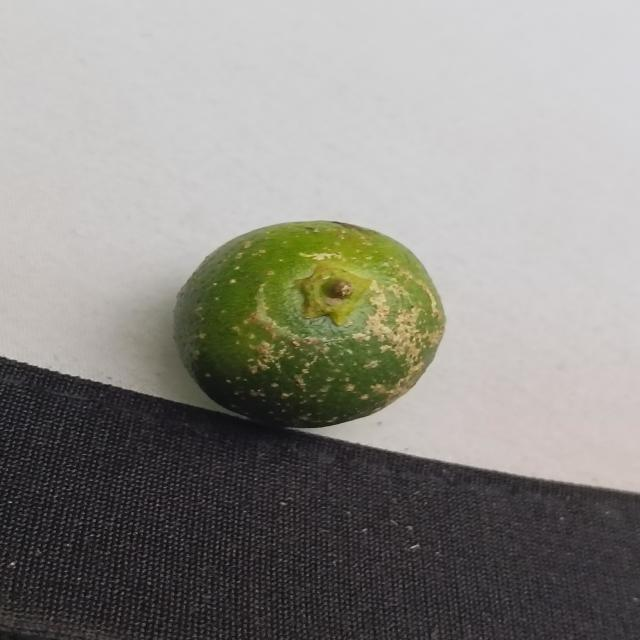scab: (179, 222, 445, 430)
